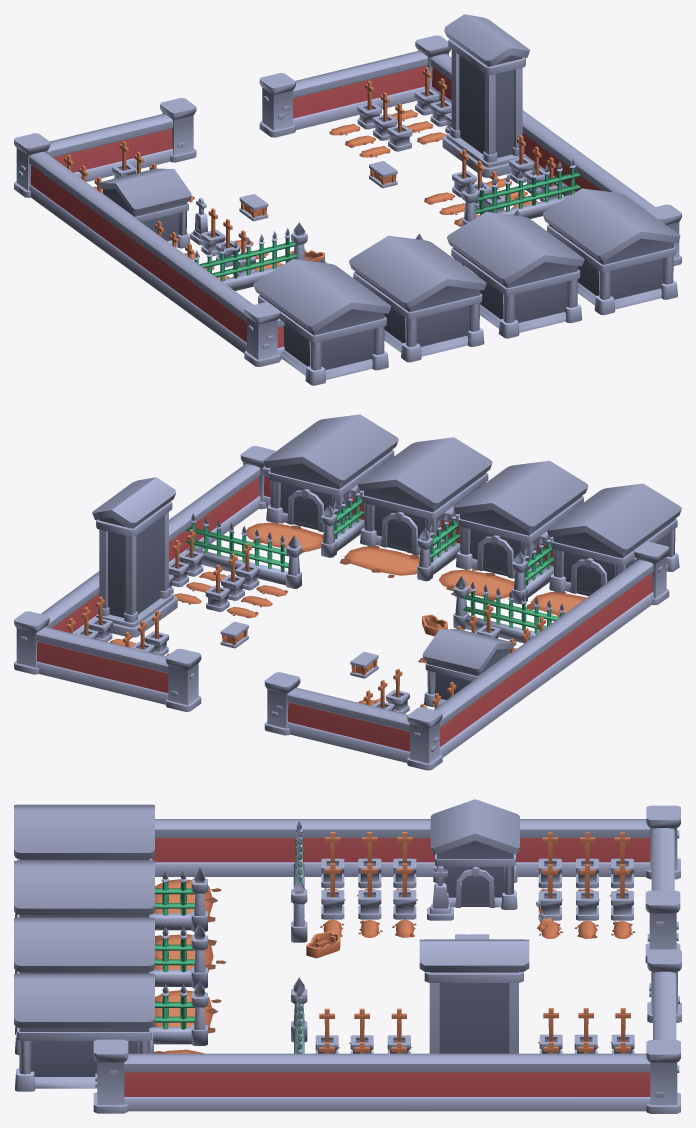
The model's file is LobbyBase.glb.
3 views of the same model, one above another, from view 1: azimuth 30°, elevation 25°; view 2: azimuth 150°, elevation 25°; view 3: azimuth 270°, elevation 25° (orthographic). The views are drawn at different scales.
Parts seen in each view (by area): view 1: brick-wall-end.008, gravestone-wide.004, gravestone-wide.002, gravestone-wide.001, gravestone-wide.003, crypt.002, brick-wall-end.004, brick-wall-end.003, brick-wall-end.002, crypt-large-roof.002, pillar-small.001, pillar-small.002 (+11 smaller); view 2: brick-wall-end.008, crypt.002, gravestone-wide.004, gravestone-wide.002, gravestone-wide.001, gravestone-wide.003, brick-wall-end.004, brick-wall-end.003, brick-wall-end.002, crypt-large-roof.002, pillar-small.001, pillar-small.002 (+19 smaller); view 3: brick-wall-end.002, brick-wall-end.008, gravestone-wide.001, crypt.002, crypt-large-roof.002, gravestone-wide.003, gravestone-wide.002, gravestone-wide.004, brick-wall-end.003, brick-wall-end.004, pillar-small.005, brick-wall-end.005 (+27 smaller).
Boxes of the visible parts, x1,y1,x2,y2 form: brick-wall-end.008: (14,133,253,353); gravestone-wide.004: (253,259,391,385); gravestone-wide.002: (447,212,584,338); gravestone-wide.001: (542,188,680,315); gravestone-wide.003: (349,235,486,362); crypt.002: (442,14,529,178); brick-wall-end.004: (259,50,428,137); brick-wall-end.003: (47,98,196,181); brick-wall-end.002: (415,35,654,209); crypt-large-roof.002: (98,168,191,248); pillar-small.001: (462,158,580,226); pillar-small.002: (193,222,307,290); brick-wall-end.008: (407,560,653,770); crypt.002: (92,477,177,637); gravestone-wide.004: (547,483,681,596); gravestone-wide.002: (357,437,492,557); gravestone-wide.001: (264,414,398,533); gravestone-wide.003: (453,460,588,580); brick-wall-end.004: (36,627,201,711); brick-wall-end.003: (264,672,409,762); brick-wall-end.002: (14,464,260,674); crypt-large-roof.002: (422,629,513,707); pillar-small.001: (185,513,301,588); pillar-small.002: (453,576,564,643); brick-wall-end.002: (124,1040,680,1113); brick-wall-end.008: (152,805,680,879); gravestone-wide.001: (14,973,154,1091); crypt.002: (419,939,529,1053); crypt-large-roof.002: (430,799,519,909); gravestone-wide.003: (14,860,154,973); gravestone-wide.002: (14,917,154,1034); gravestone-wide.004: (14,804,154,917); brick-wall-end.003: (645,828,680,963); brick-wall-end.004: (647,949,681,1039); pillar-small.005: (152,981,207,1045); brick-wall-end.005: (93,1039,128,1113).
Size of what is drawn, in the model's own units: 30.91 by 8.74 by 34.98.
2 materials, 2 textured.
